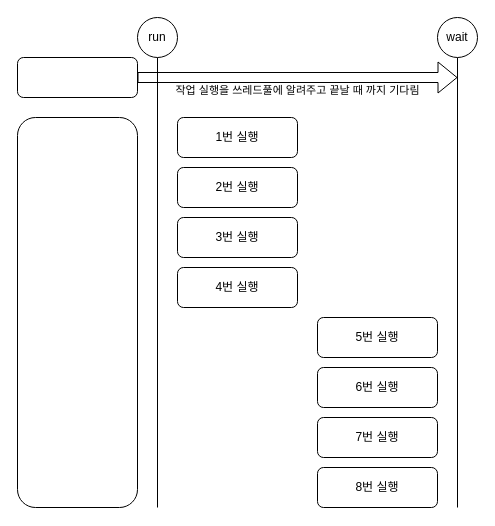
This 495x526 diagram has some shape labels left out. Each missing label, with the box of its shape:
Main Thread: (16, 56, 138, 98)
Thread pool: (16, 116, 138, 508)
